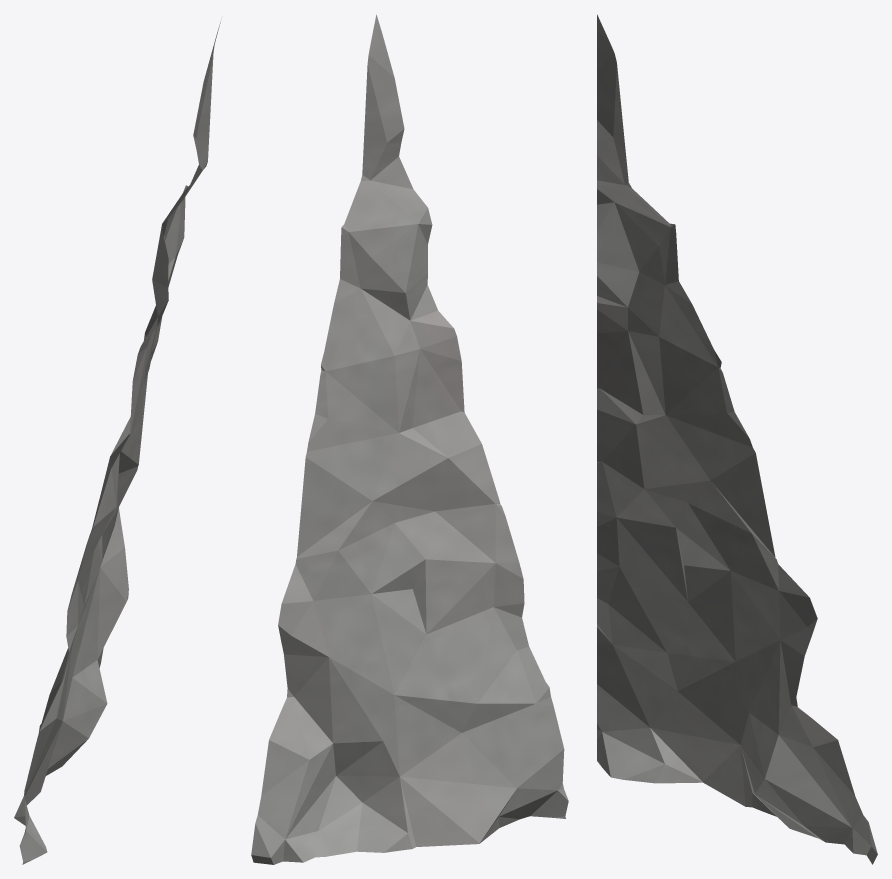
The picture shows the model from 3 angles, left to right: view 1: azimuth 30°, elevation 25°; view 2: azimuth 150°, elevation 25°; view 3: azimuth 270°, elevation 25°; orthographic projection. The views are drawn at different scales.
Size of the model in its own units: 0.1037 by 0.391 by 0.117.
1 material, 1 textured.
